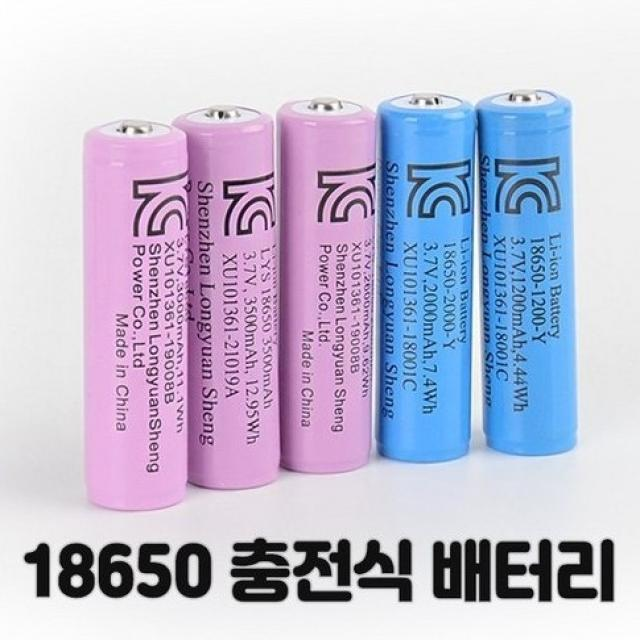battery: (176, 102, 282, 493), (83, 119, 187, 515), (471, 81, 576, 454), (372, 89, 473, 465), (276, 94, 373, 478)
